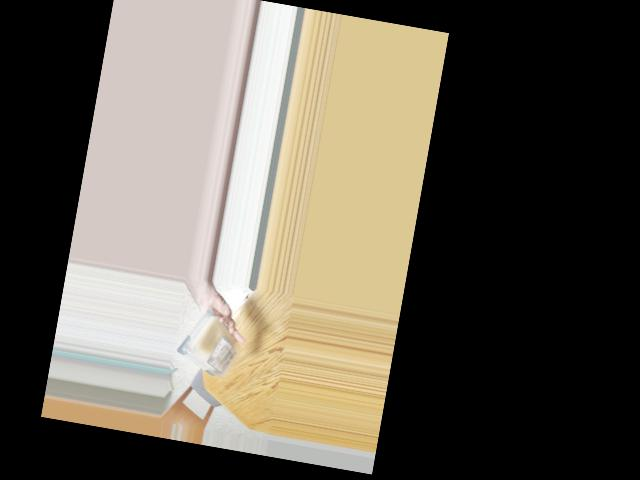cheese: (180, 308, 245, 384)
